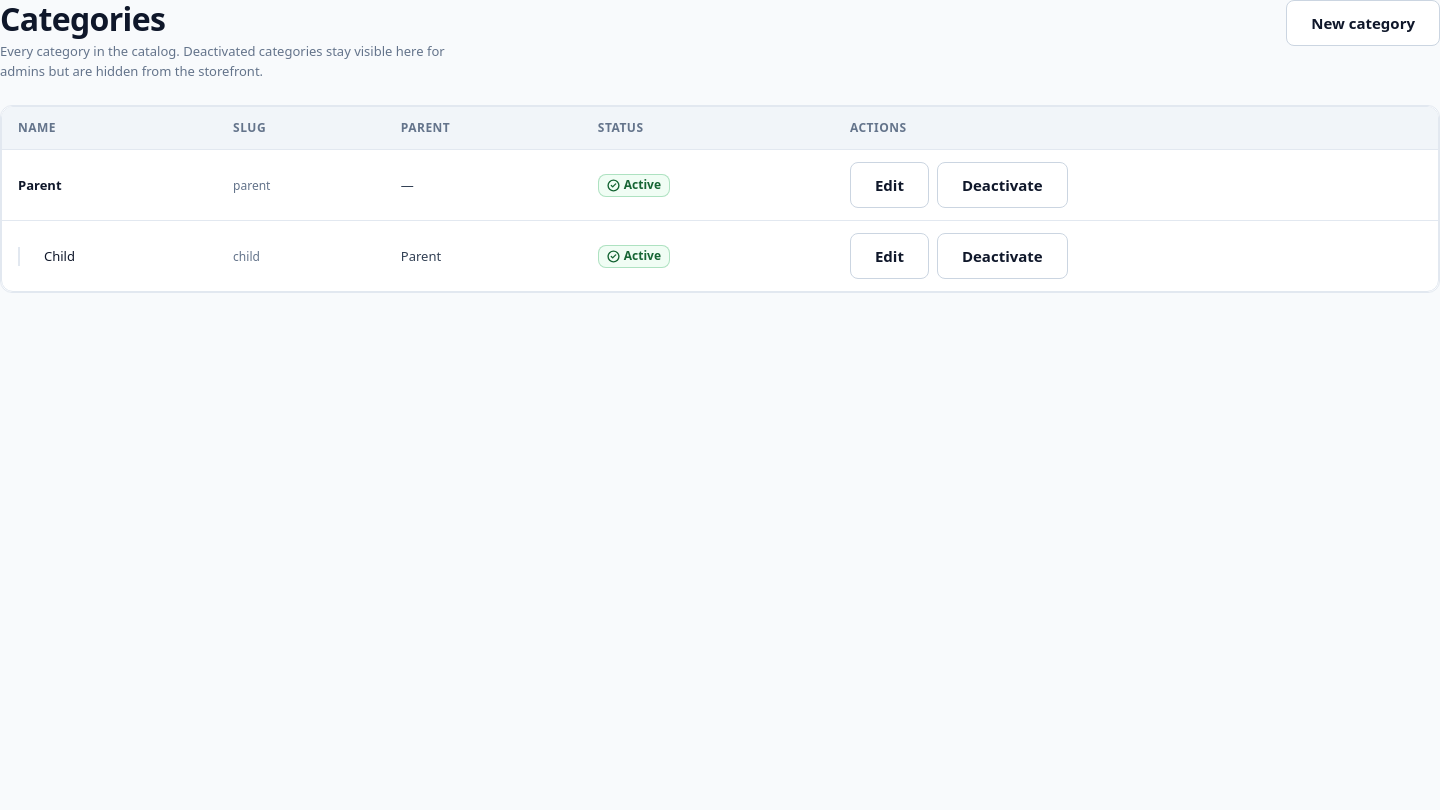
Test: AdminCategoriesPage › mentions the number of child categories in the deactivate confirmation
Expected: the text "Parent" is shown, [18, 176, 62, 195]
Click the 1st button "Deactivate": (1002, 185) [937, 162, 1068, 208]
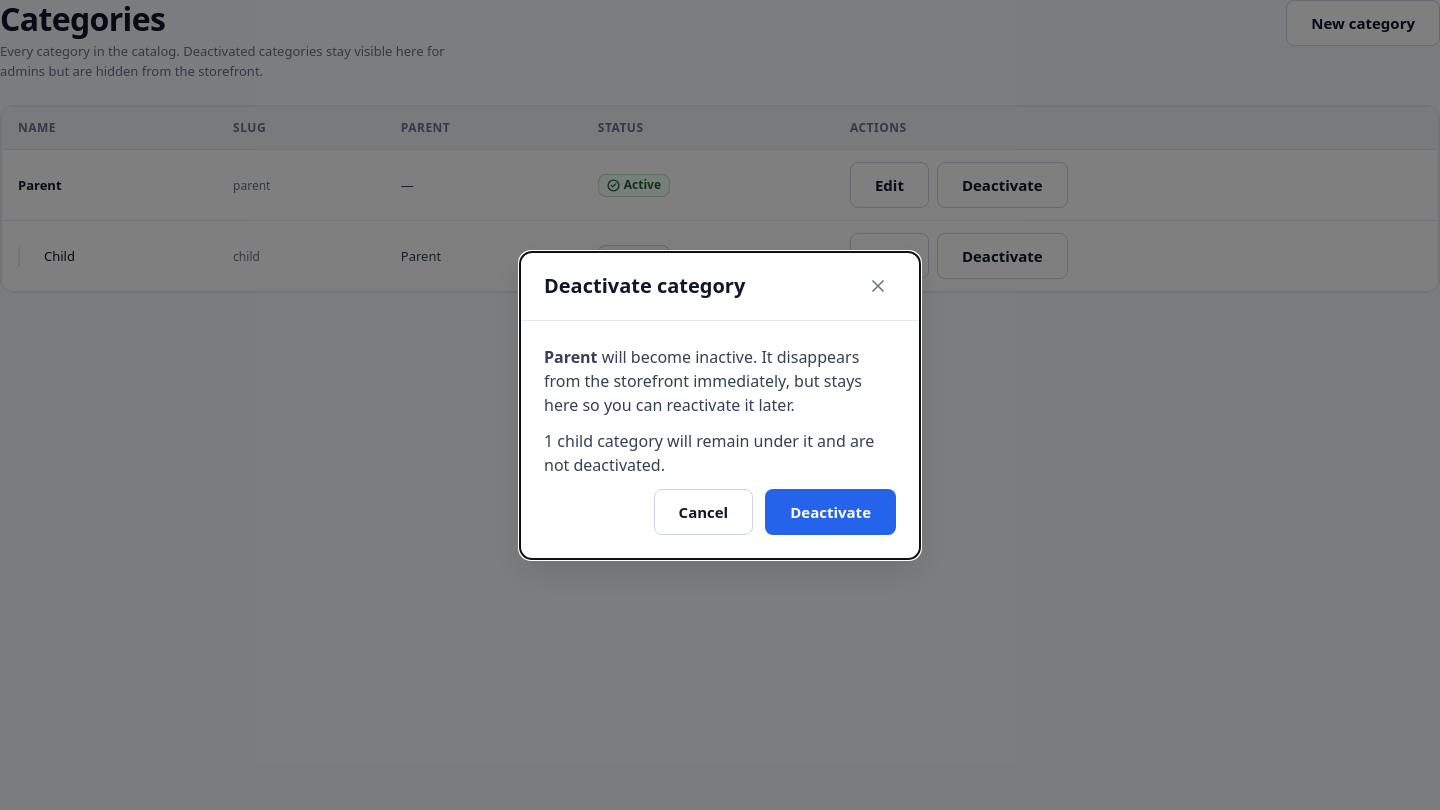
Expected: the text "1 child category will remain under it" is shown, [544, 428, 896, 476]
